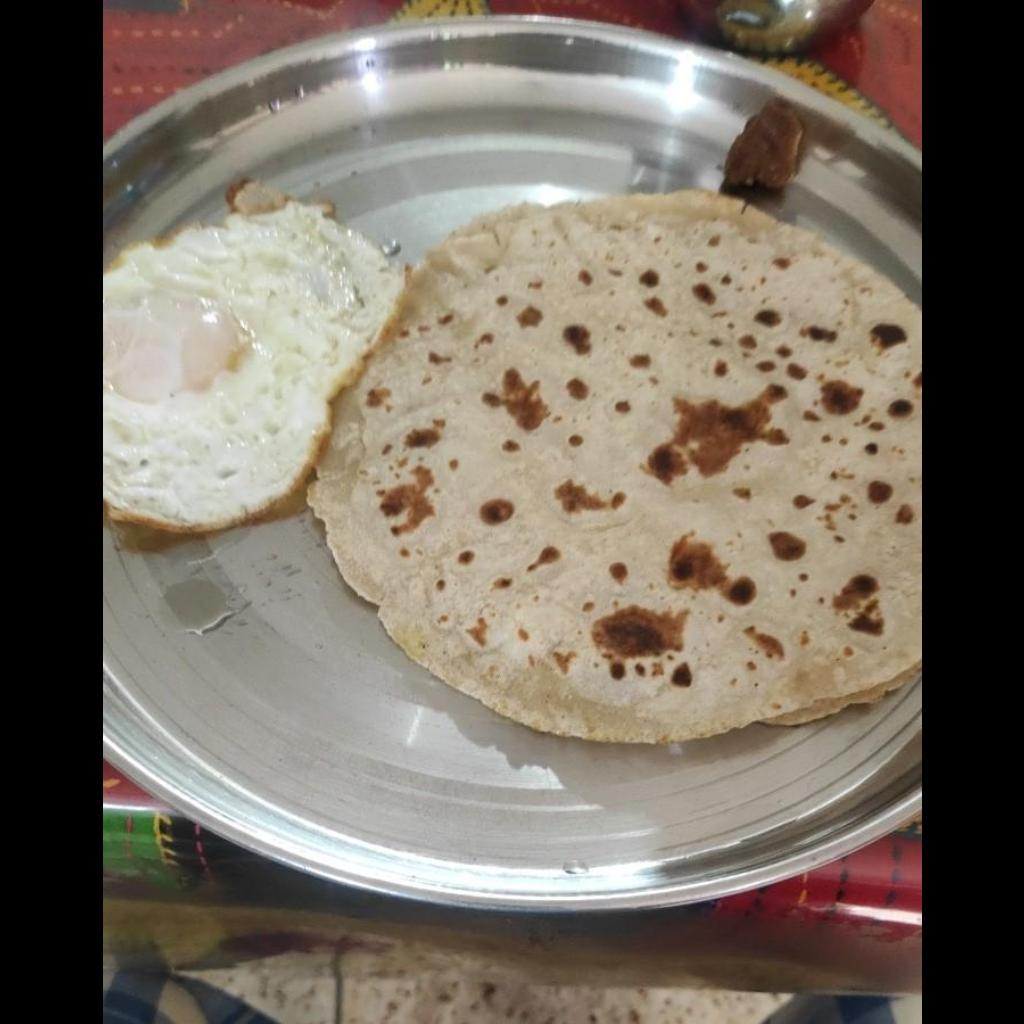egg-poached: (103, 179, 401, 535)
juice: (721, 95, 802, 192)
ruti: (308, 188, 918, 745)
